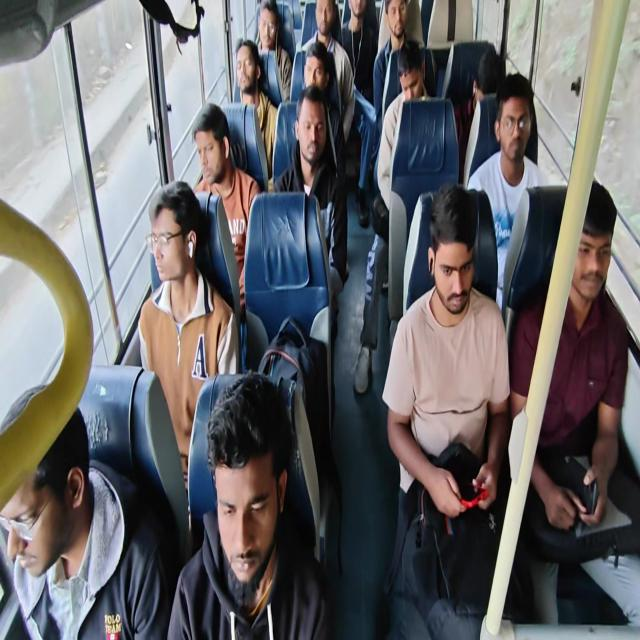person: (205, 386, 282, 588), (0, 394, 88, 557), (428, 214, 483, 326), (567, 200, 615, 319), (149, 179, 195, 284), (498, 85, 536, 173), (295, 97, 336, 168), (189, 116, 231, 180), (475, 44, 508, 112), (396, 36, 426, 109), (226, 36, 258, 98), (295, 44, 328, 98), (382, 0, 406, 43), (255, 0, 276, 46), (314, 0, 335, 37), (344, 0, 364, 24)
